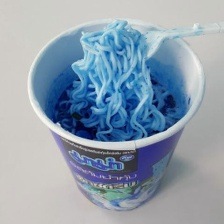paper_cup: (21, 13, 209, 217)
